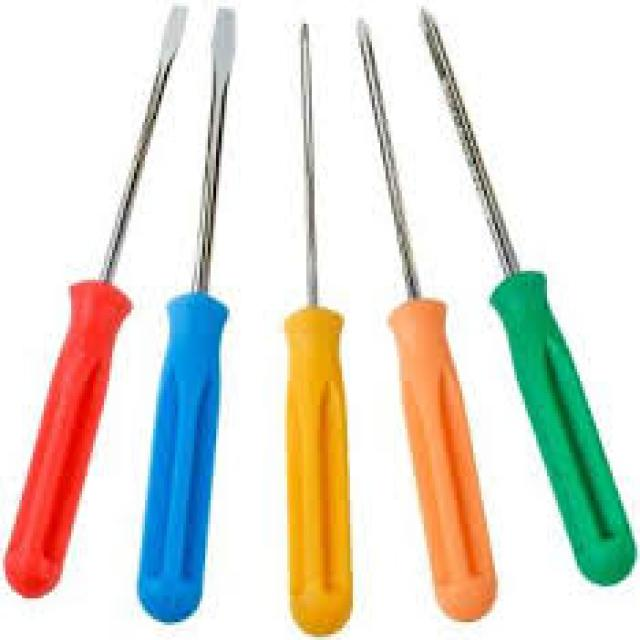screw driver: (276, 4, 378, 623)
